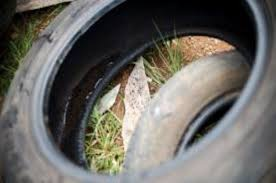tire: (1, 1, 275, 183)
